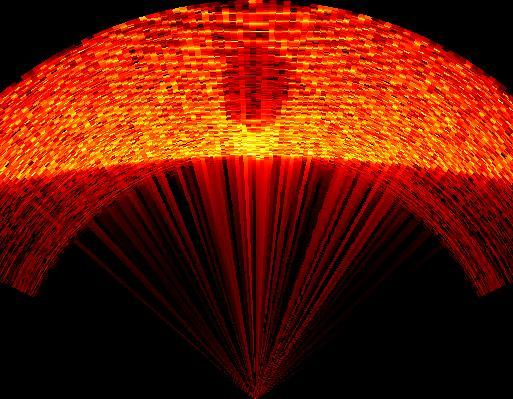box_crate: (220, 42, 288, 122)
